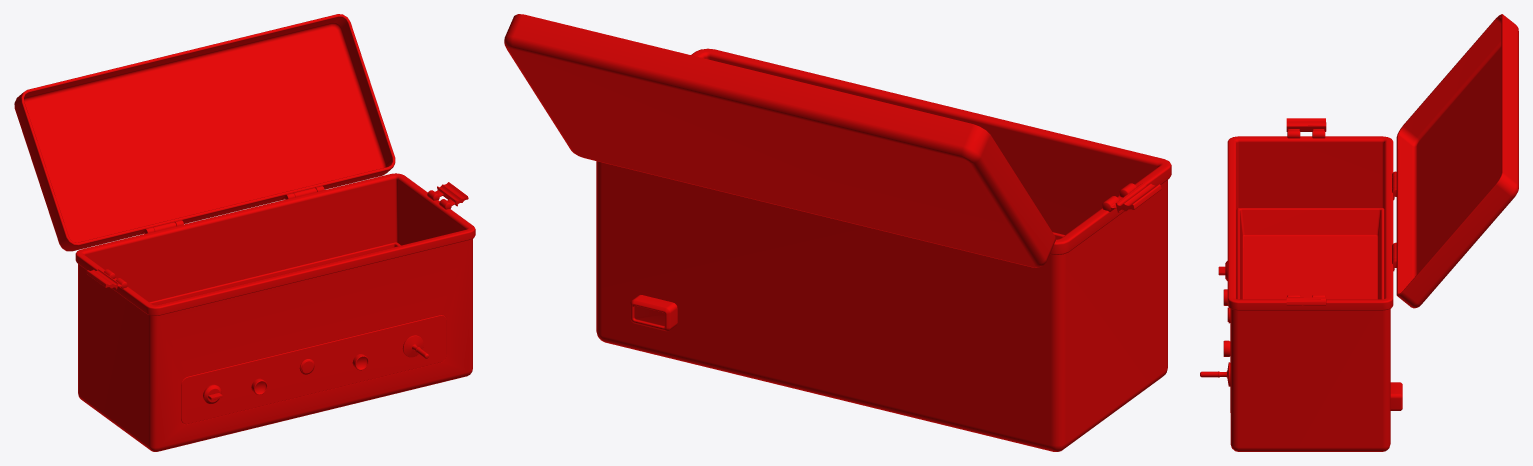
File: Sterilizing_chamber_1.fbx
3 renders of one model, left to right at view 1: azimuth 30°, elevation 25°; view 2: azimuth 150°, elevation 25°; view 3: azimuth 270°, elevation 25°, orthographic. The views are drawn at different scales.
Parts seen in each view (by area): view 1: L2:polySurface1461; view 2: L2:polySurface1461; view 3: L2:polySurface1461.
Part boxes in pixels (left/top/right/bottom): L2:polySurface1461: left=14, top=14, right=475, bottom=451; L2:polySurface1461: left=504, top=14, right=1171, bottom=451; L2:polySurface1461: left=1200, top=14, right=1518, bottom=451.
Size of the model in its own units: 78.8 by 55.59 by 57.6.
